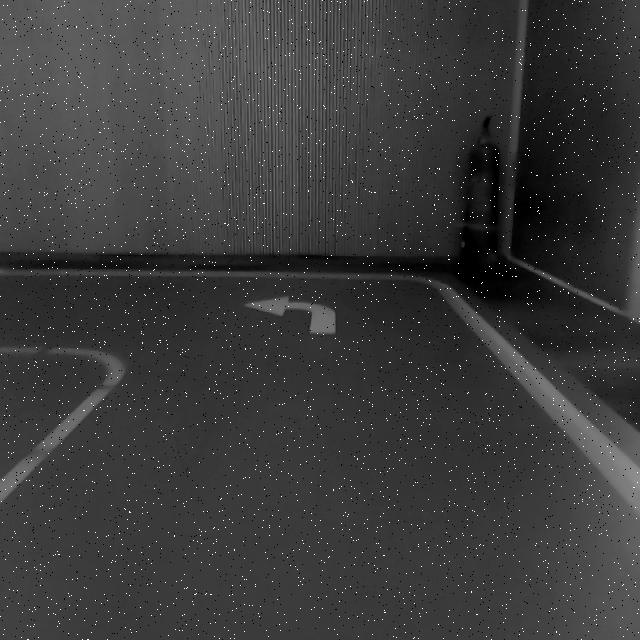left_lane: (0, 376, 124, 507)
right_lane: (439, 286, 640, 521)
